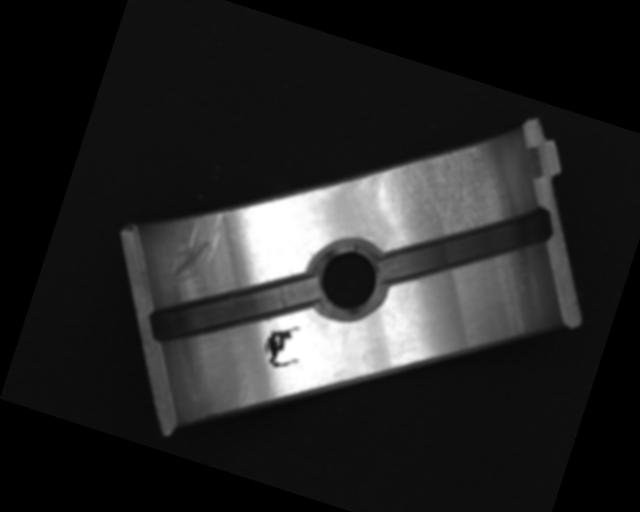blot: (257, 312, 311, 374)
gap: (373, 165, 558, 326), (144, 233, 325, 383)
hole: (296, 229, 399, 331)
nick: (162, 198, 227, 294)
scratch: (346, 107, 525, 249)
